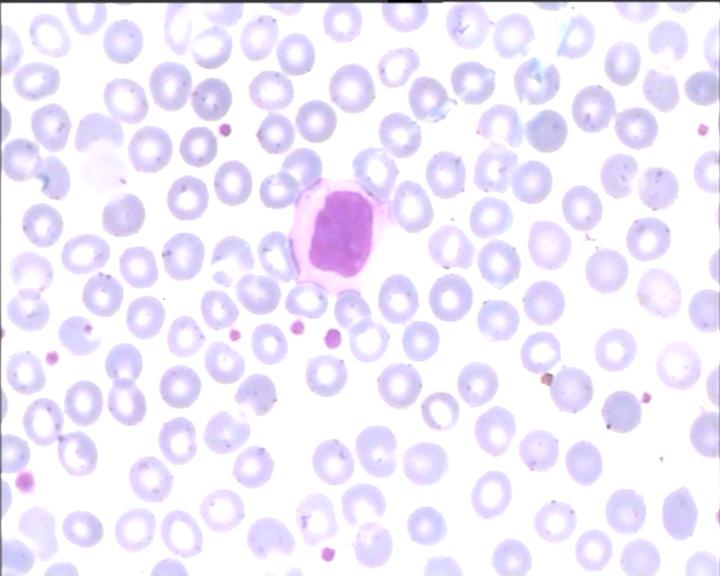mono: (292, 171, 389, 293)
